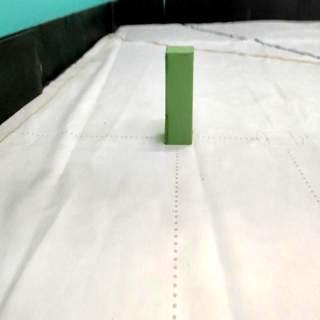greenbox: (164, 44, 196, 146)
